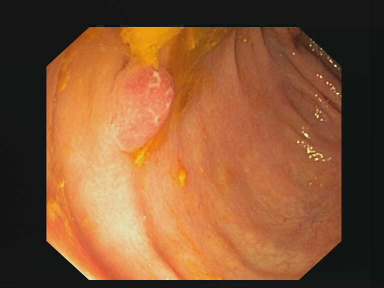polyp: (104, 61, 177, 151)
